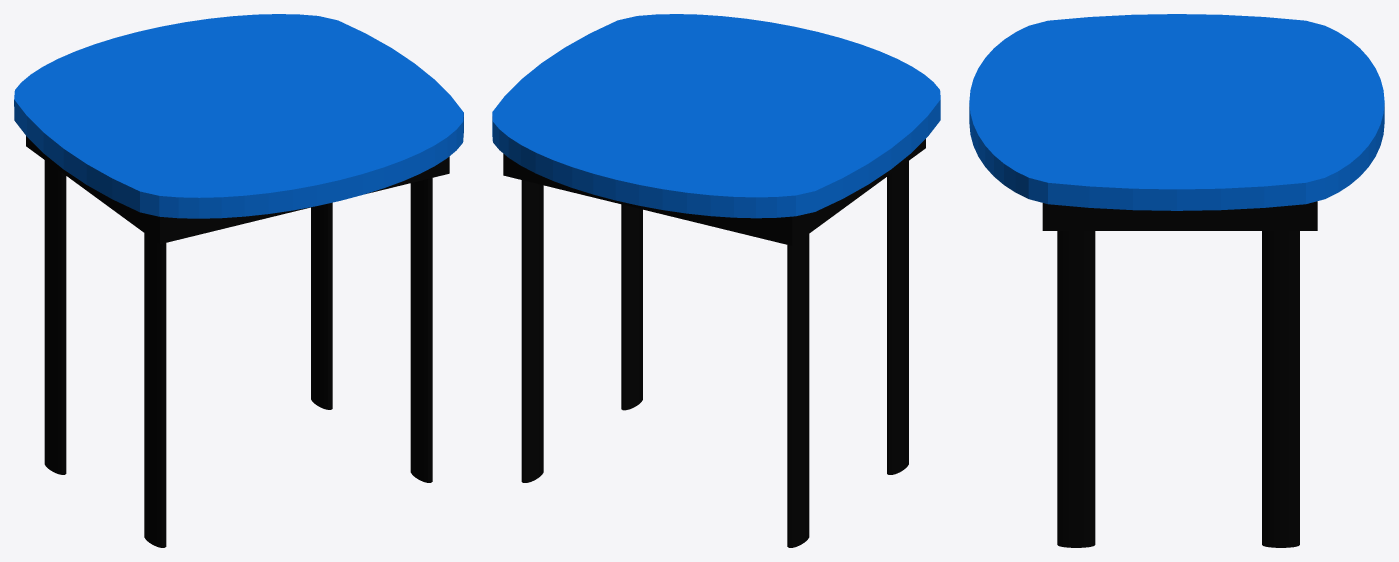
The model's file is sh-kl-bench.glb.
3 renders of one model, left to right at view 1: azimuth 30°, elevation 25°; view 2: azimuth 150°, elevation 25°; view 3: azimuth 270°, elevation 25°, orthographic. The views are drawn at different scales.
Parts seen in each view (by area): view 1: Bench_Bench_Counters, Bench_Bench_Black_paint; view 2: Bench_Bench_Counters, Bench_Bench_Black_paint; view 3: Bench_Bench_Counters, Bench_Bench_Black_paint.
Part boxes in pixels (box(x1,y1,x2,y2)): Bench_Bench_Counters: box(14, 14, 463, 218); Bench_Bench_Black_paint: box(26, 136, 449, 547); Bench_Bench_Counters: box(492, 14, 940, 218); Bench_Bench_Black_paint: box(503, 139, 925, 547); Bench_Bench_Counters: box(969, 14, 1384, 210); Bench_Bench_Black_paint: box(1042, 201, 1317, 547).
Bounding box in the file's own units: 1 × 1 × 1.
